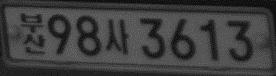1: (199, 19, 221, 60)
3: (139, 16, 165, 58), (227, 20, 252, 62)
6: (170, 17, 196, 60)
8: (75, 14, 101, 56)
9: (47, 13, 72, 55)
부산_V: (20, 12, 46, 54)
사: (105, 19, 130, 54)
